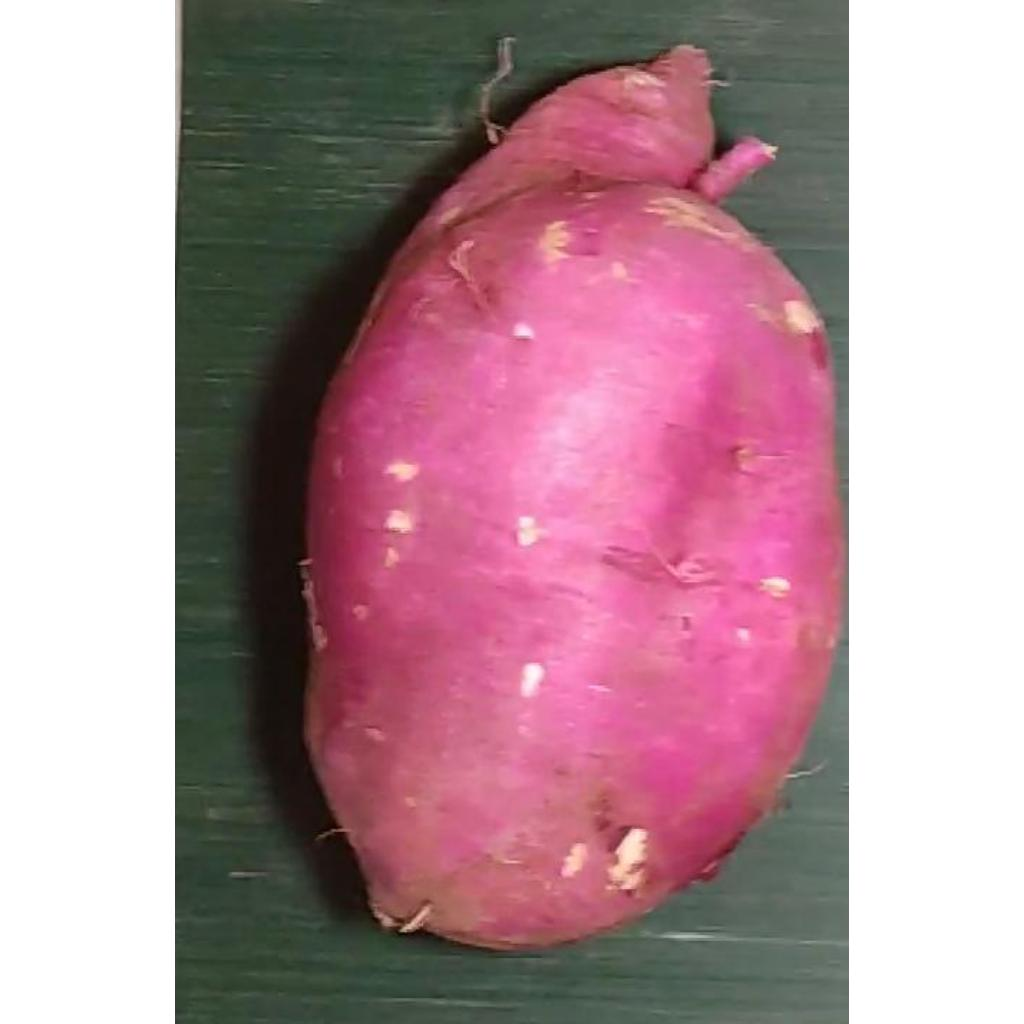Sweet Potato: (303, 44, 843, 954)
